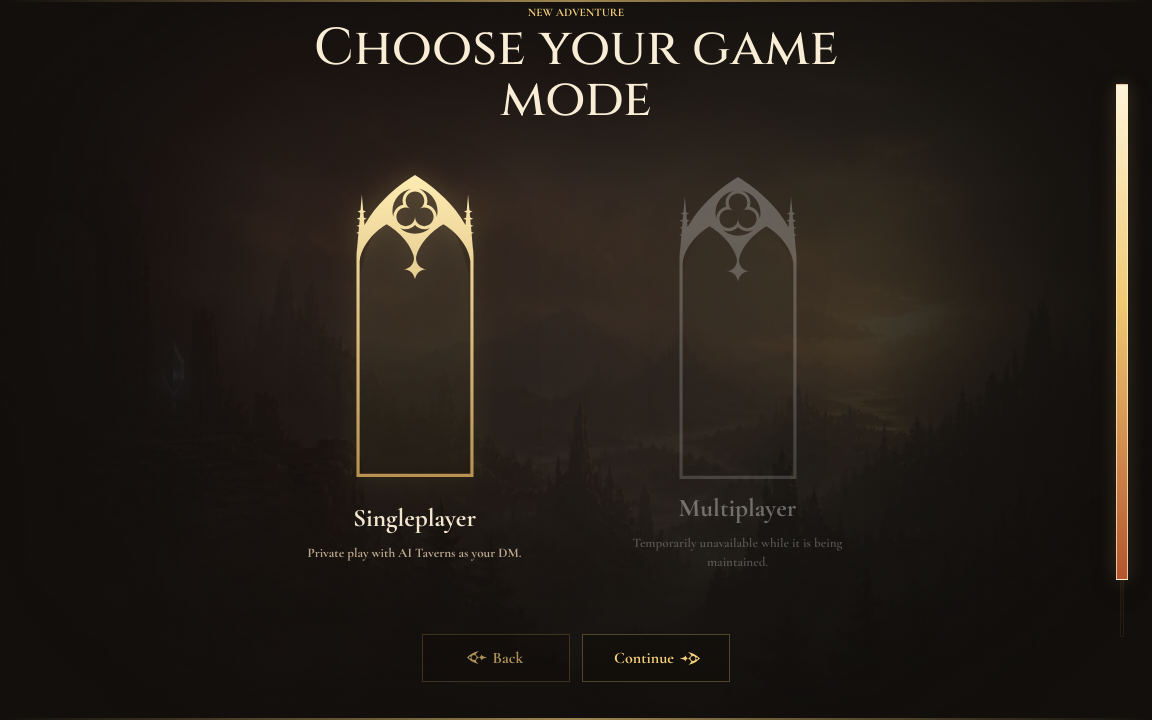
Scenario: NewAdventureForm › lets point-buy stats spend points and advance from valid stats
The image size is (1152, 720).
Later steps or results of the test are not shown.
(page scrolled)
Click the button "Continue". click: (656, 658)
box: [582,634,730,682]
Wait 480 ms
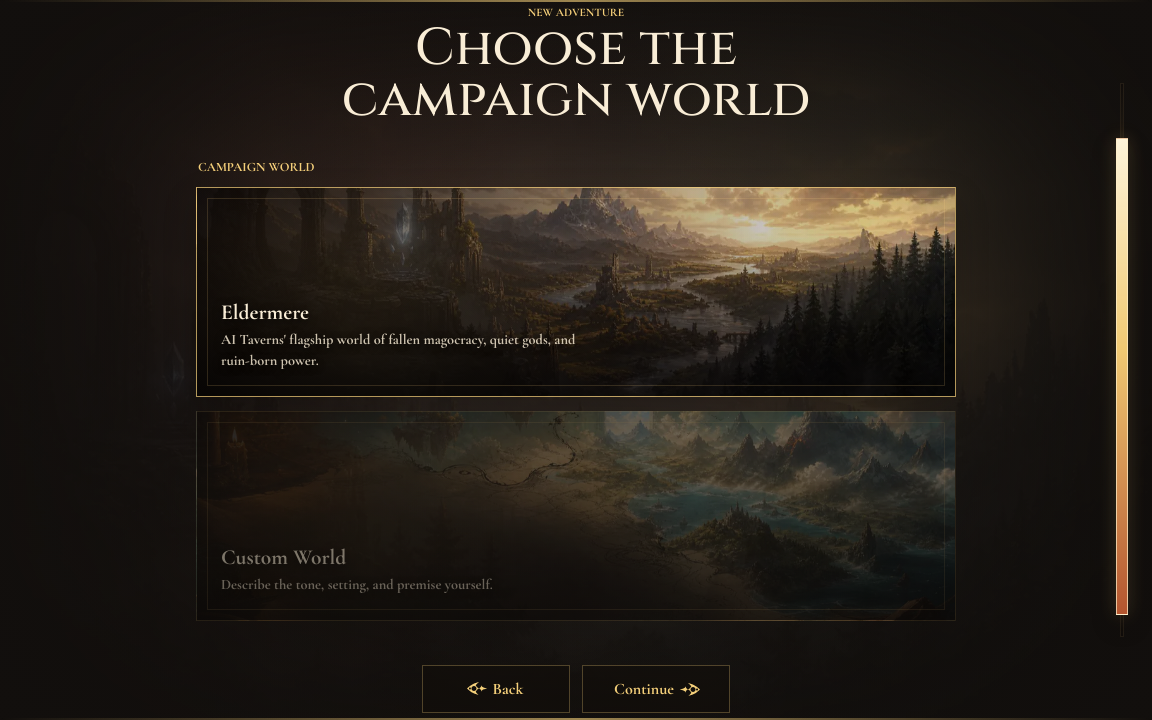
Click the button "Continue". click: (656, 689)
box: [582,665,730,713]
Wait 480 ms
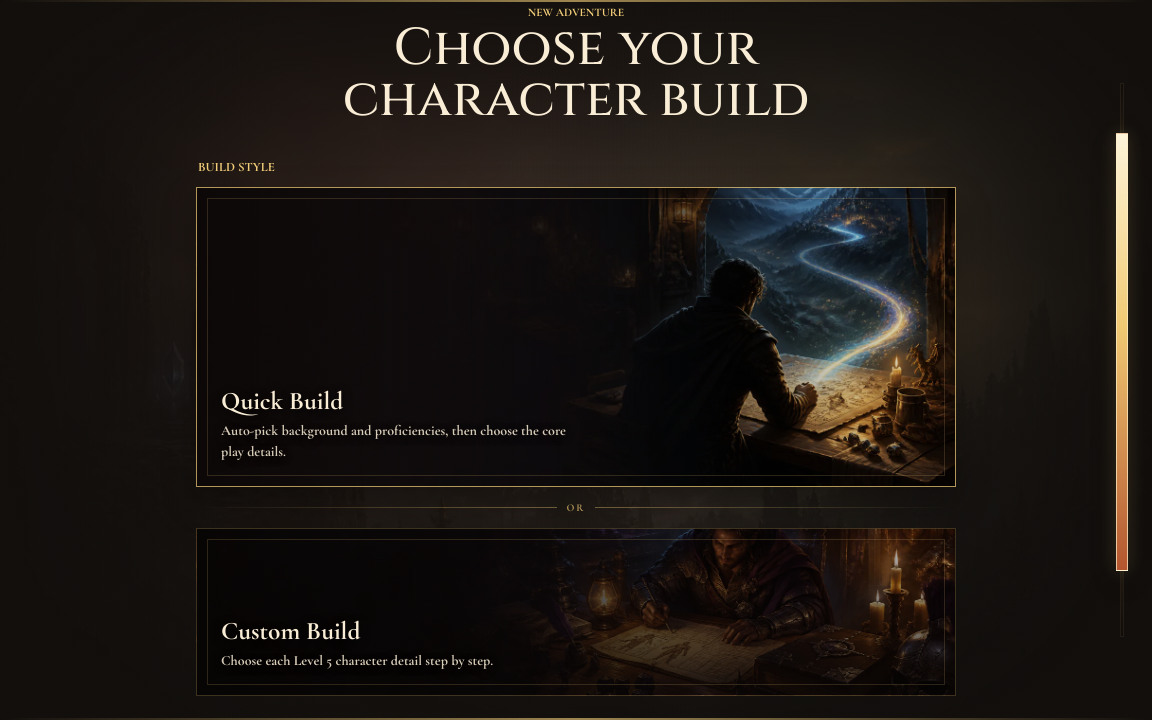
expect the heading "Choose your character build" is shown: met, box [343,13,809,134]
Click the button "Custom Build". click: (291, 631)
box: [196,528,956,696]
(page scrolled)
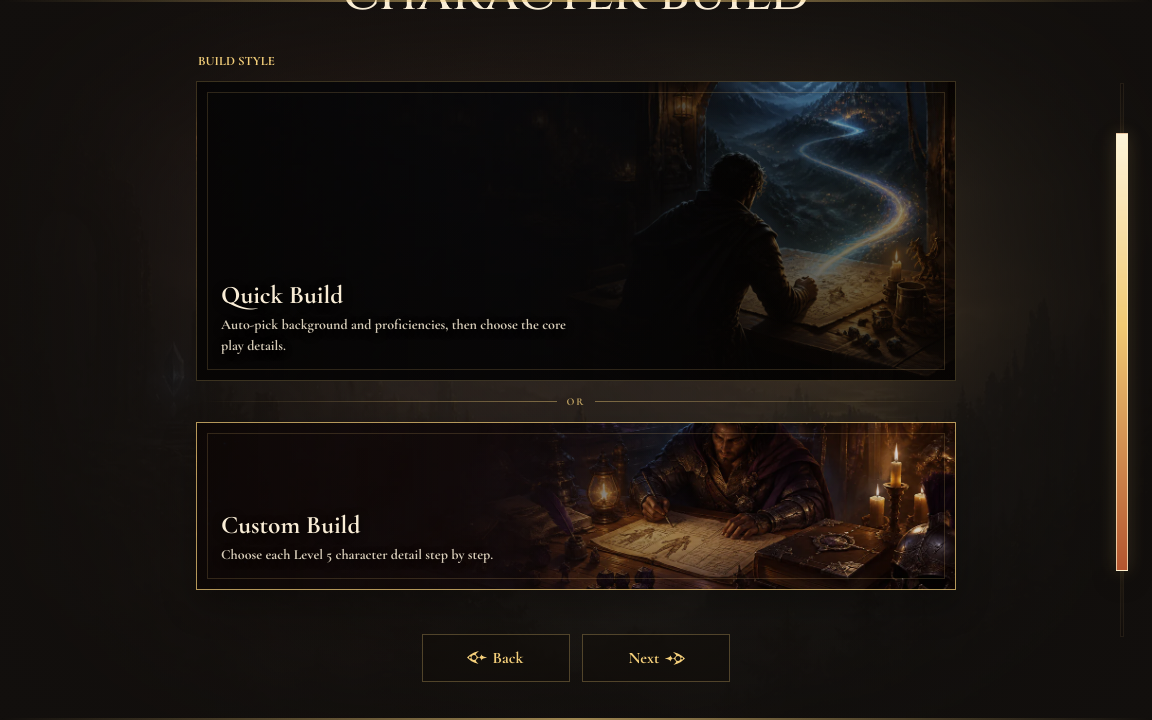
Click the button "Next". click: (656, 658)
box: [582,634,730,682]
Wait 480 ms
(page scrolled)
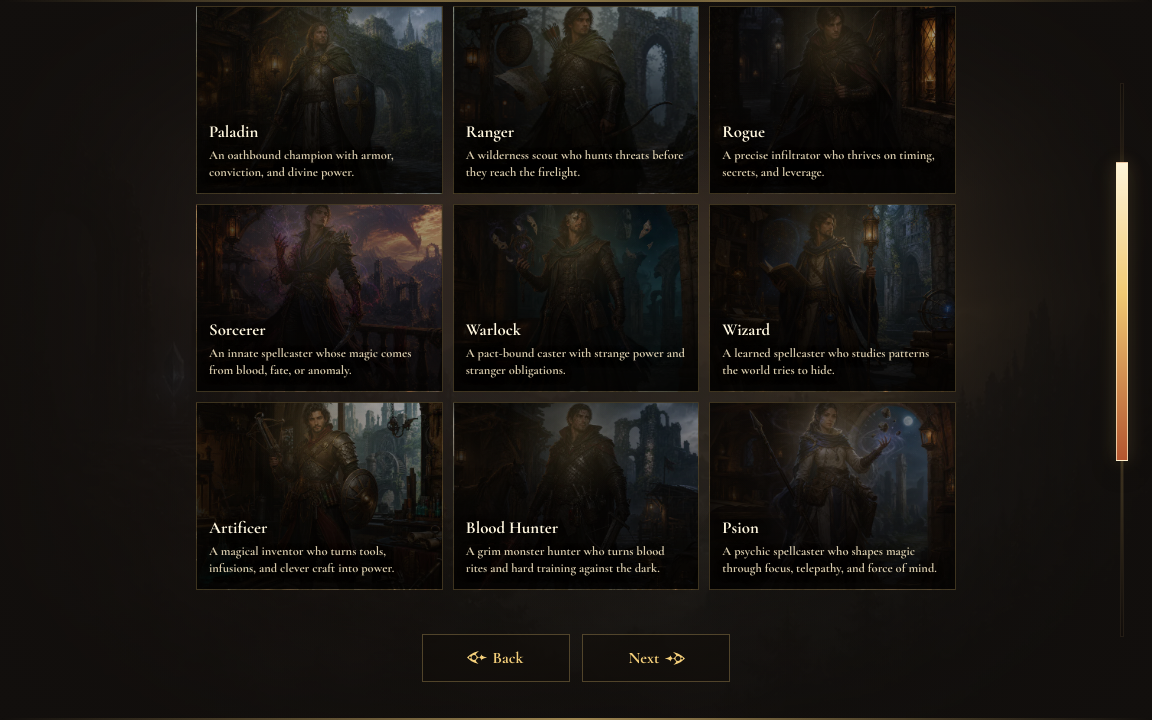
Click the button "Next". click: (656, 658)
box: [582,634,730,682]
Wait 480 ms
(page scrolled)
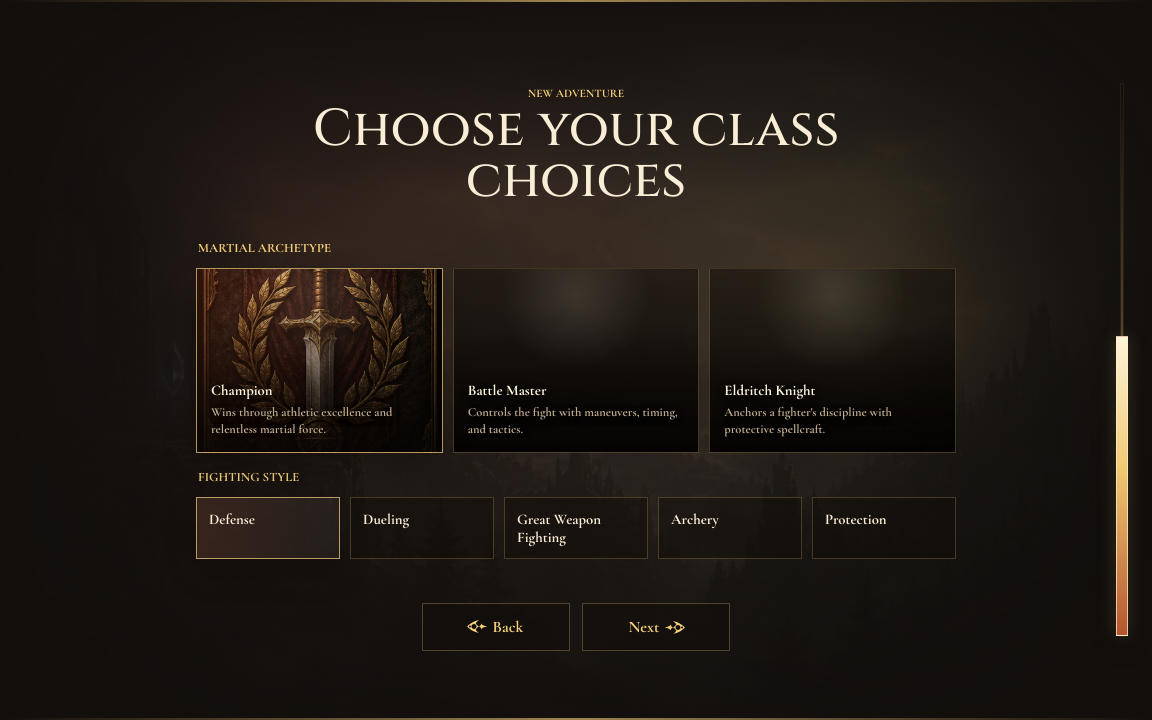
expect the heading "Choose your class choices" is shown: met, box [289,104,863,206]
Click the button "Next". click: (656, 627)
box: [582,603,730,651]
Wait 480 ms
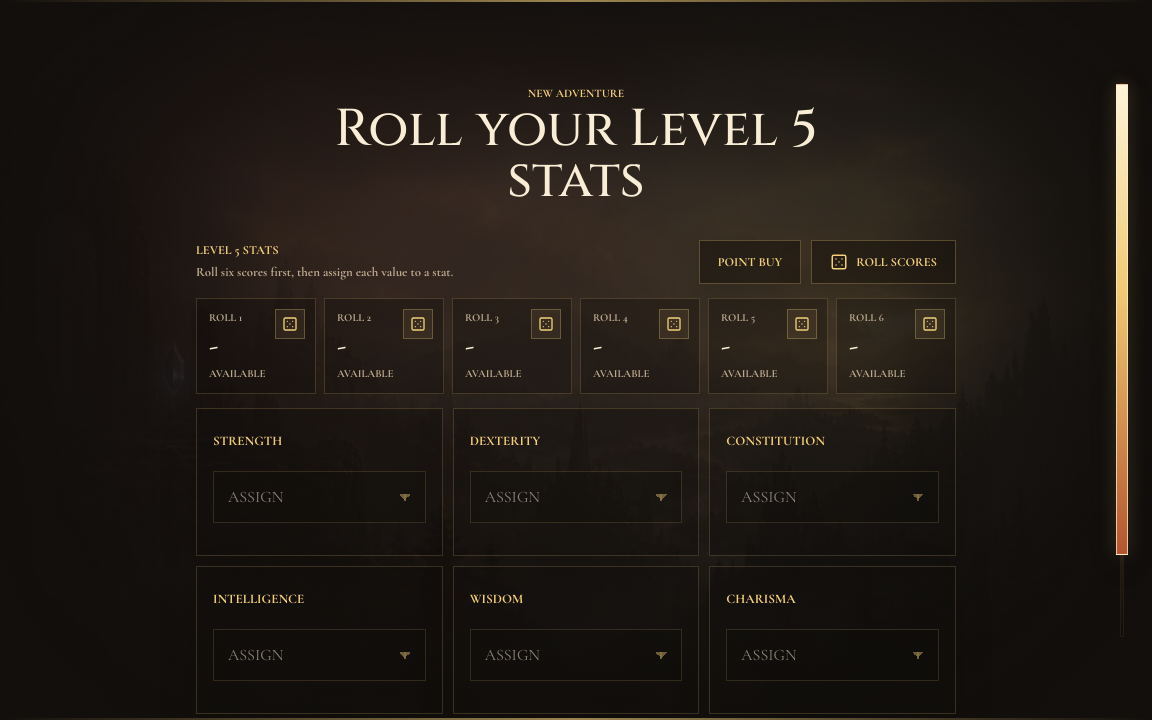
expect the heading "Roll your Level 5 stats" is shown: met, box [334,94,818,215]
